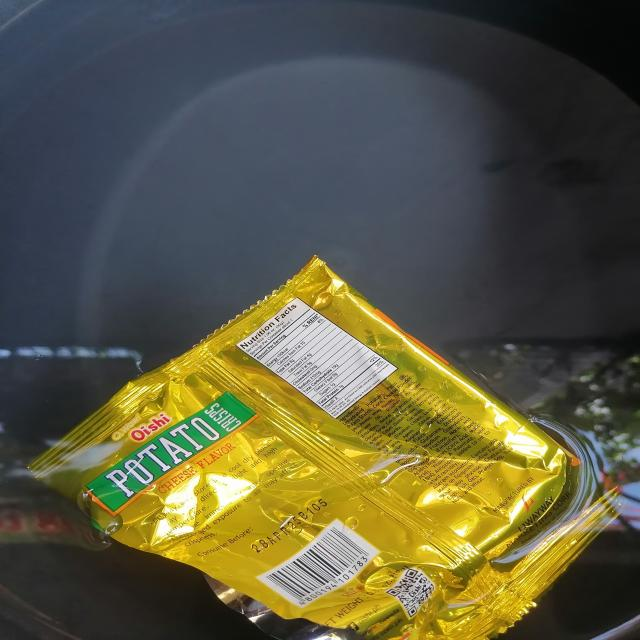Plastic Wrapper: (0, 241, 640, 640)
